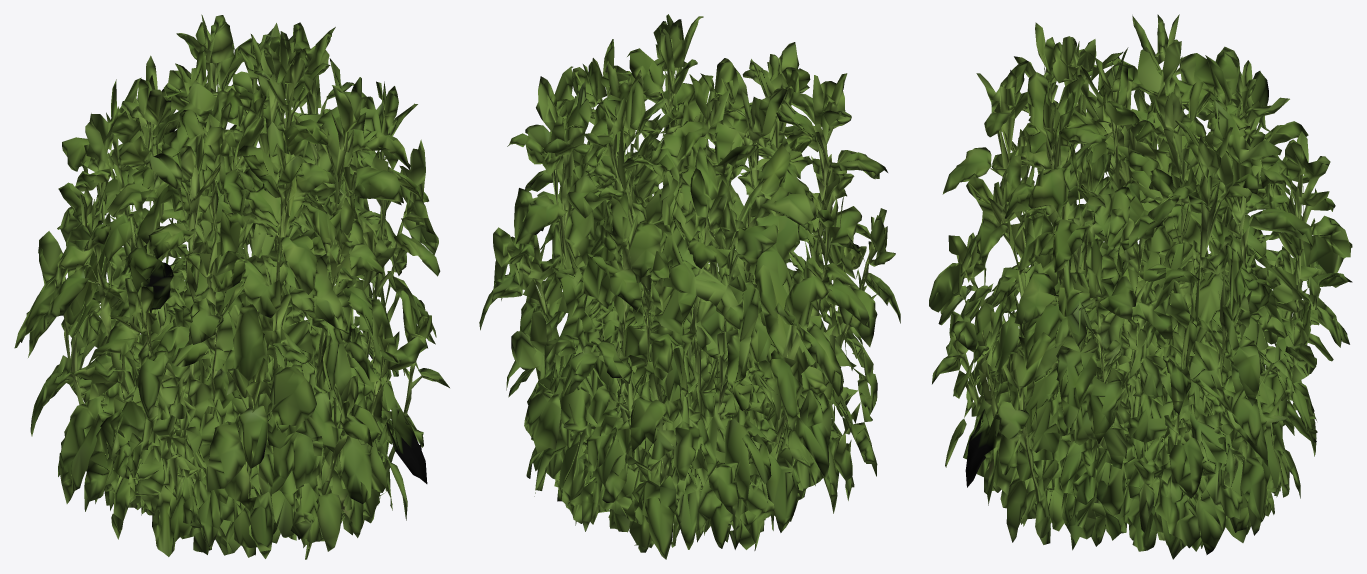
Rendered from lemon-balm.glb.
The picture shows the model from 3 angles, left to right: view 1: azimuth 30°, elevation 25°; view 2: azimuth 150°, elevation 25°; view 3: azimuth 270°, elevation 25°; orthographic projection. The views are drawn at different scales.
Parts seen in each view (by area): view 1: Mesh_0.001; view 2: Mesh_0.001; view 3: Mesh_0.001.
Boxes of the visible parts, left/top/right/bottom form: Mesh_0.001: left=14, top=14, right=449, bottom=559; Mesh_0.001: left=479, top=14, right=900, bottom=559; Mesh_0.001: left=929, top=14, right=1352, bottom=559.
Size of the model in its own units: 1.2 by 1.5 by 1.2.
